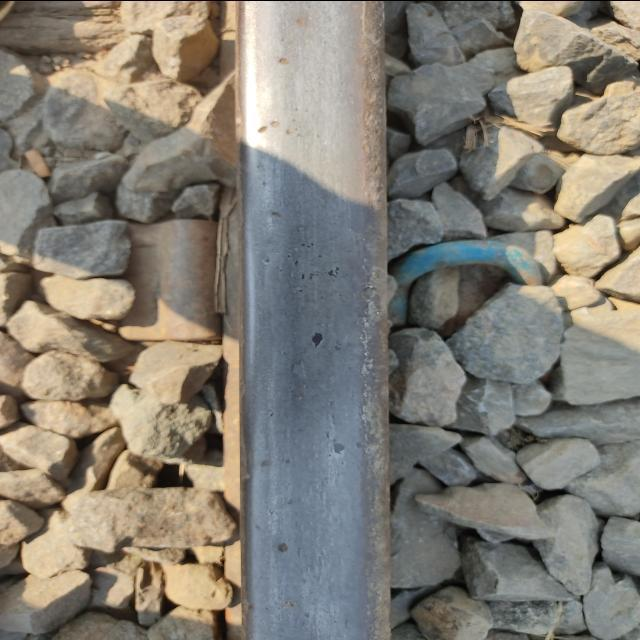head_checks_low: (299, 265, 343, 283), (255, 119, 293, 135), (331, 437, 347, 454), (308, 331, 326, 346), (266, 208, 283, 218), (278, 54, 292, 66), (275, 542, 289, 553), (257, 459, 273, 467), (291, 18, 312, 24), (262, 257, 272, 263)
